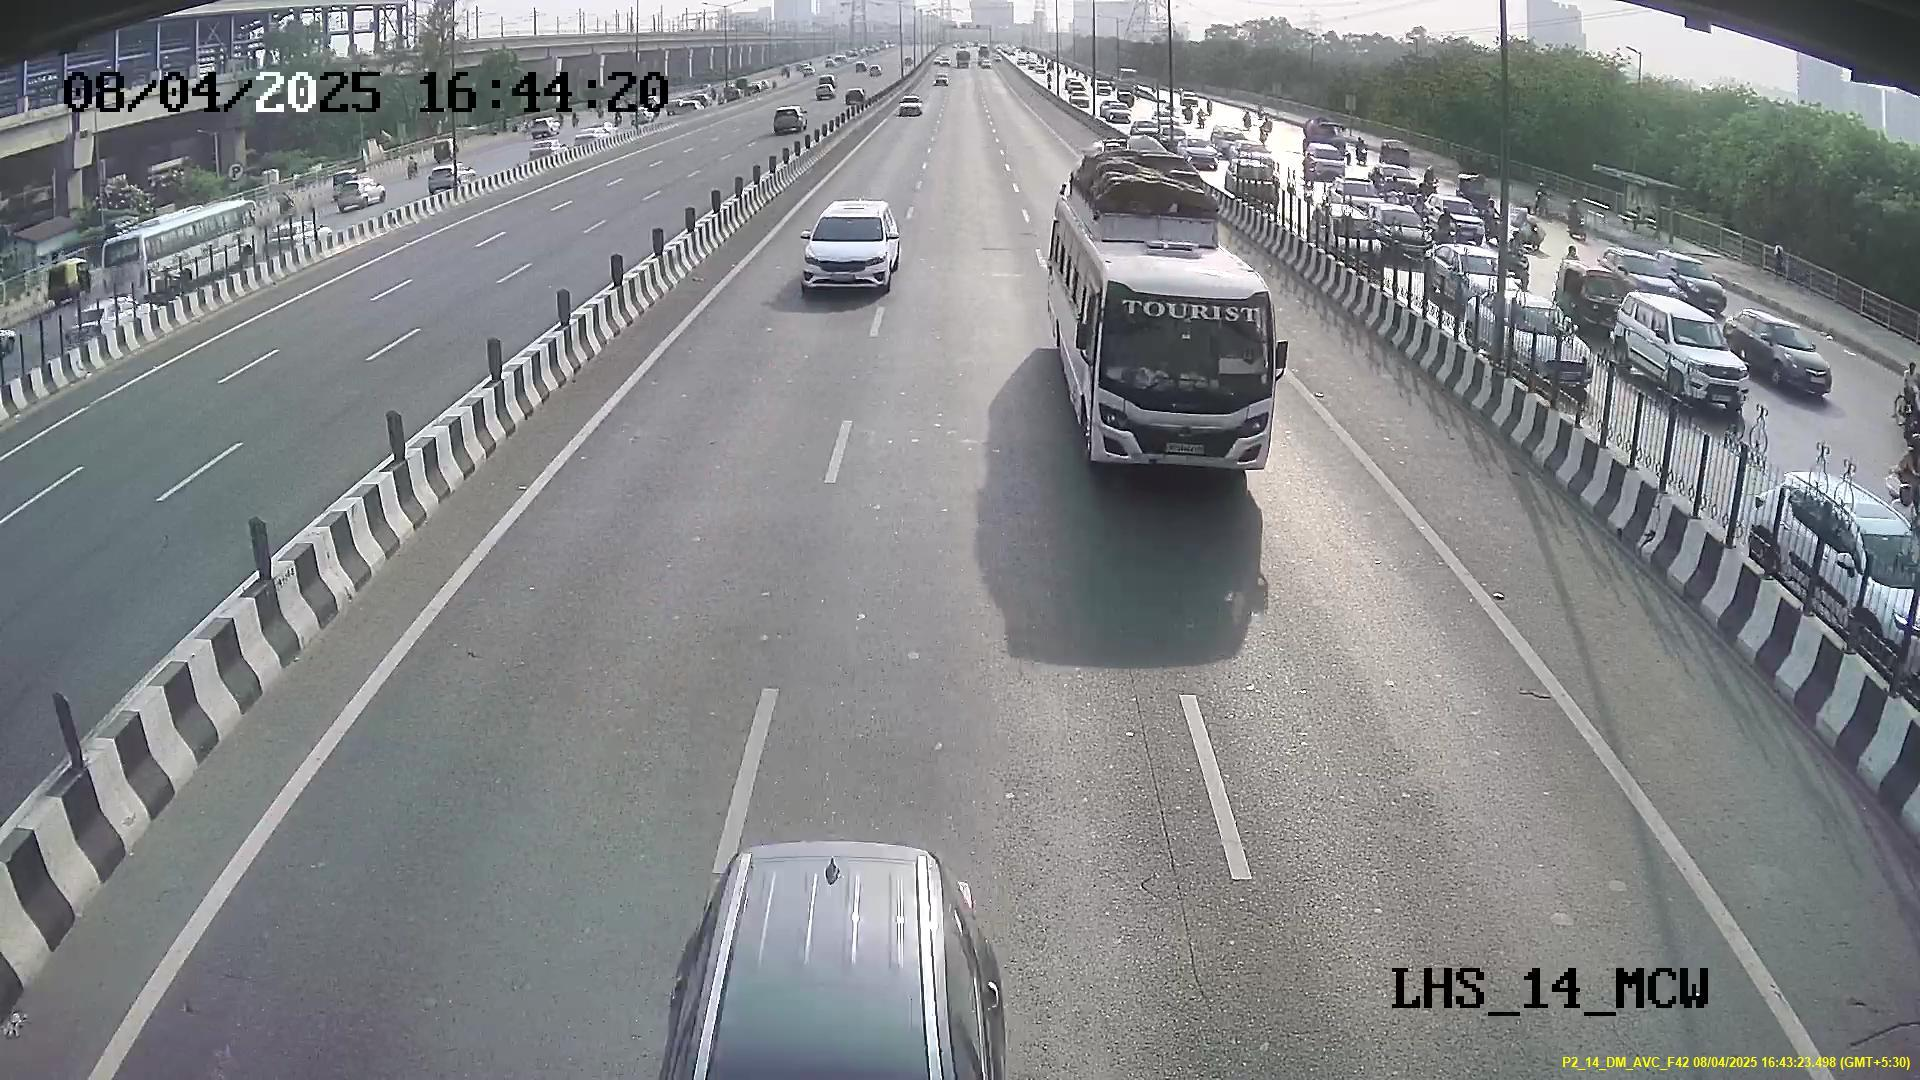bus: (1060, 251, 1291, 489)
car: (795, 203, 897, 305)
